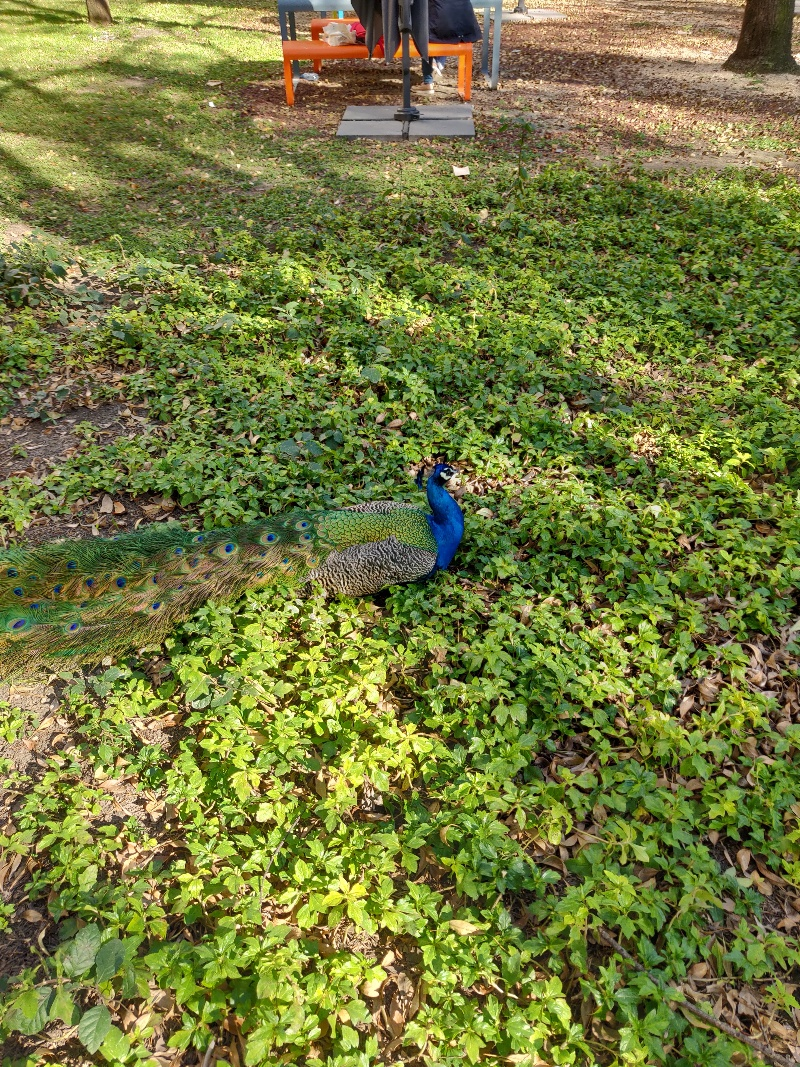pavoreal: (294, 462, 461, 603)
